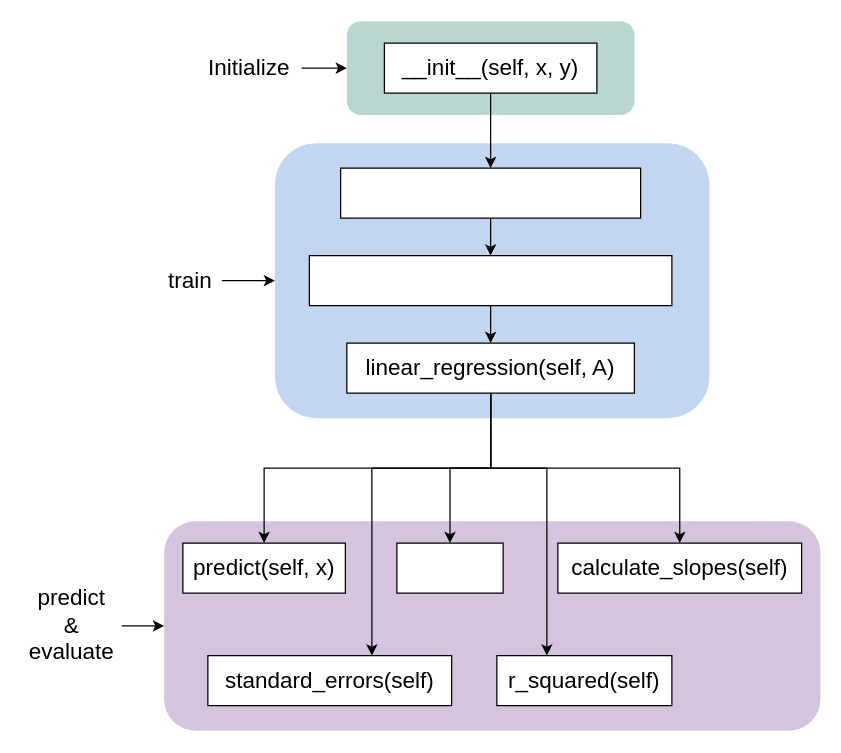
Some shapes in this 841 by 753 pixel diagram are drawn without their labels. Here are the shapes that lost their labels. From the top down, the box of each, then its label:
(339, 167, 641, 218): simple_plr_v1(self, breaks)
(308, 254, 672, 306): regression_matrix(self, breaks, x)
(396, 542, 503, 593): plot(self)
